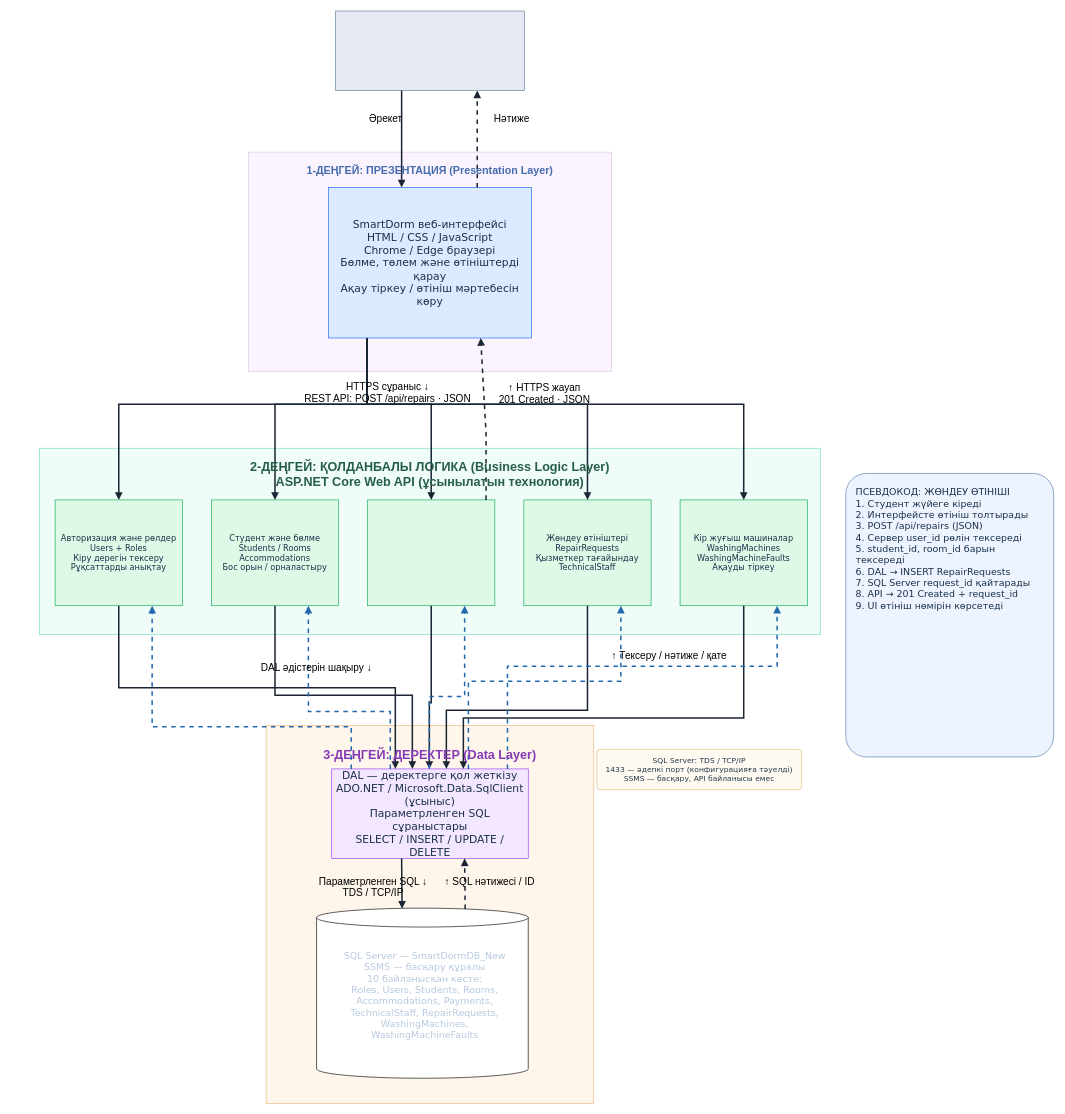
The diagram is 1065 pixels wide and 1114 high, and some of its shapes have lost their labels. The box of each missing label's shape, as (x1, y1, x2, y2) in pixels:
Жатақхана төлемі Payments Қарызды тексеру Төлем мәртебесі: (367, 499, 495, 606)
ПАЙДАЛАНУШЫЛАР Студент / Әкімші Техникалық қызметкер: (335, 10, 524, 90)
